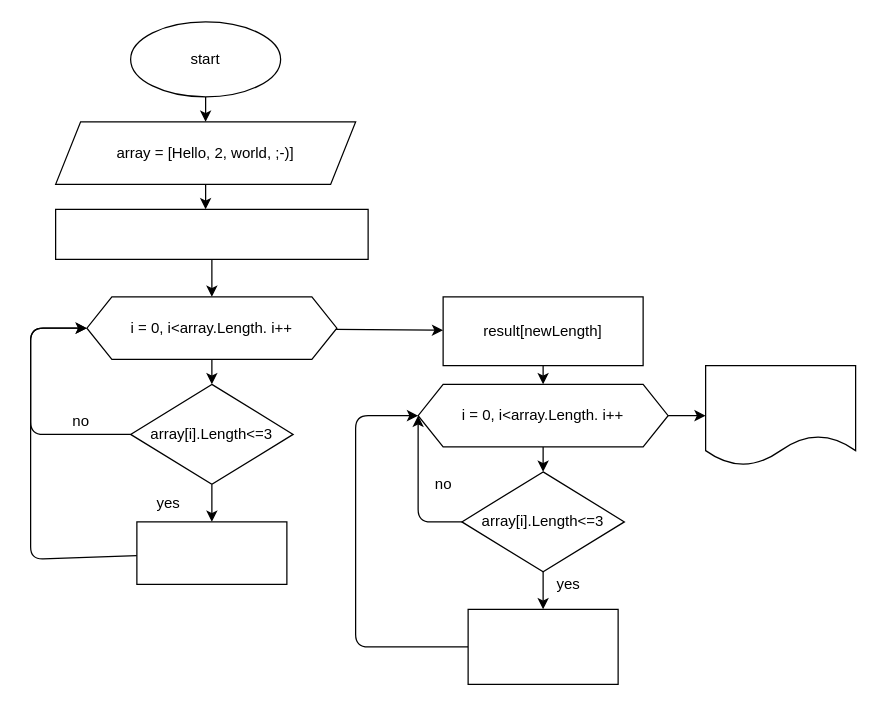
The diagram is 878 pixels wide and 706 high, and some of its shapes have lost their labels. Each missing label, with the box of its shape:
newLength ++: (136, 521, 287, 584)
newLength = 0 j = 0: (54, 208, 368, 259)
print reult: (704, 364, 856, 466)
result[j] = array[i] j++: (467, 608, 618, 684)
